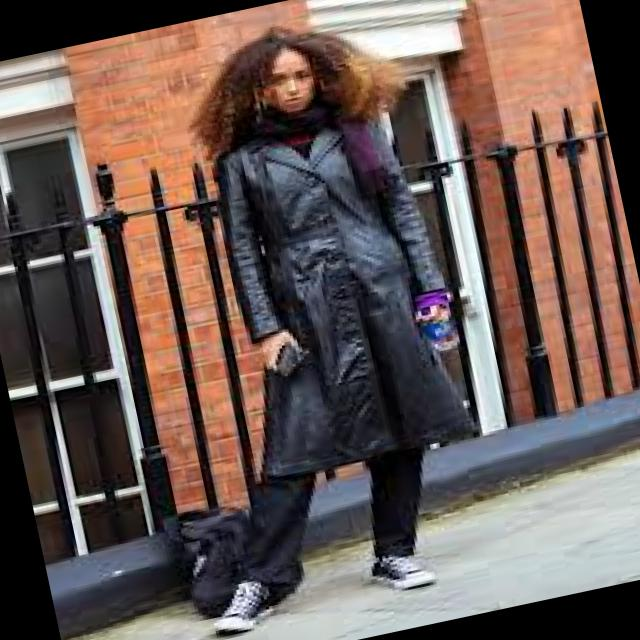Jacket: (210, 100, 467, 466)
